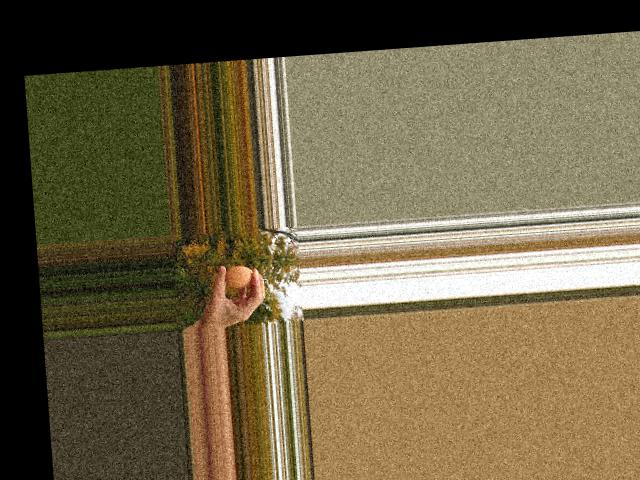egg: (224, 264, 254, 288)
